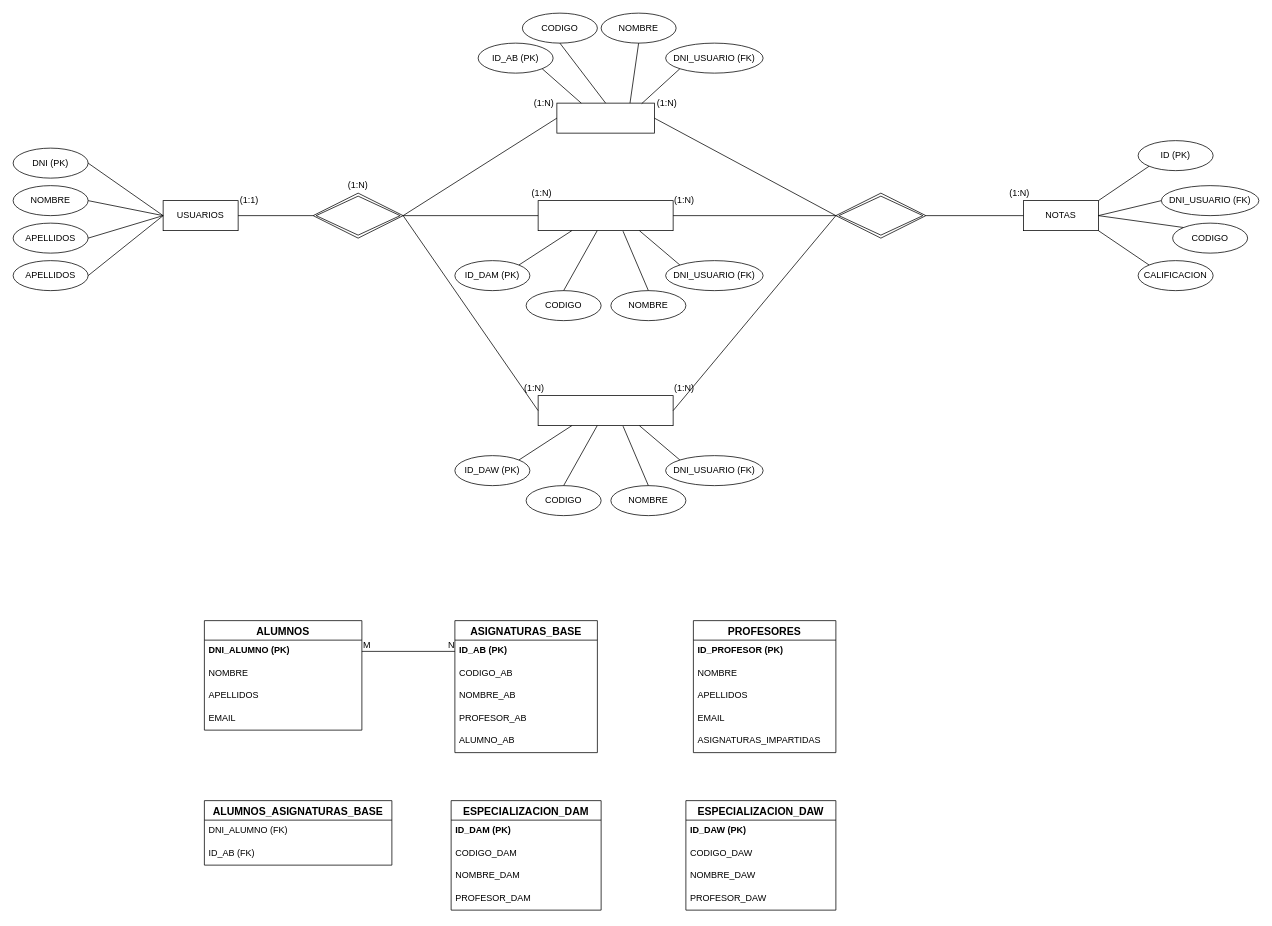
Some shapes in this 1272 by 926 pixel diagram are drawn without their labels. Here are the shapes that lost their labels. From the top down, the centre of each, then its label:
At point (605, 117): "ASIGNATURA_BASE".
At point (357, 215): "IMPARTEN".
At point (605, 215): "ESPECIALIZACIONES_DAM".
At point (880, 215): "EVALUARAN".
At point (605, 410): "ESPECIALIZACIONES_DAW".
